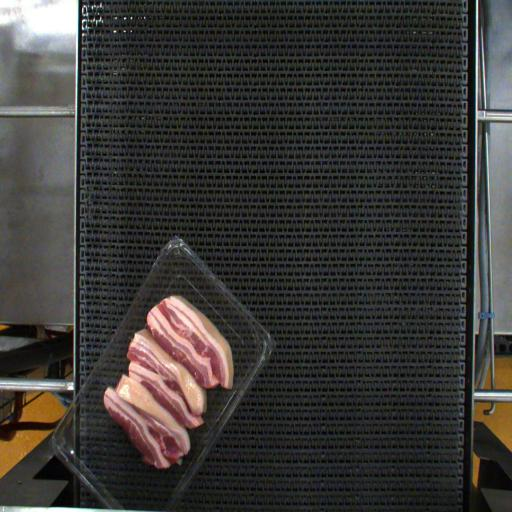twisted-meat: (124, 371, 186, 452)
